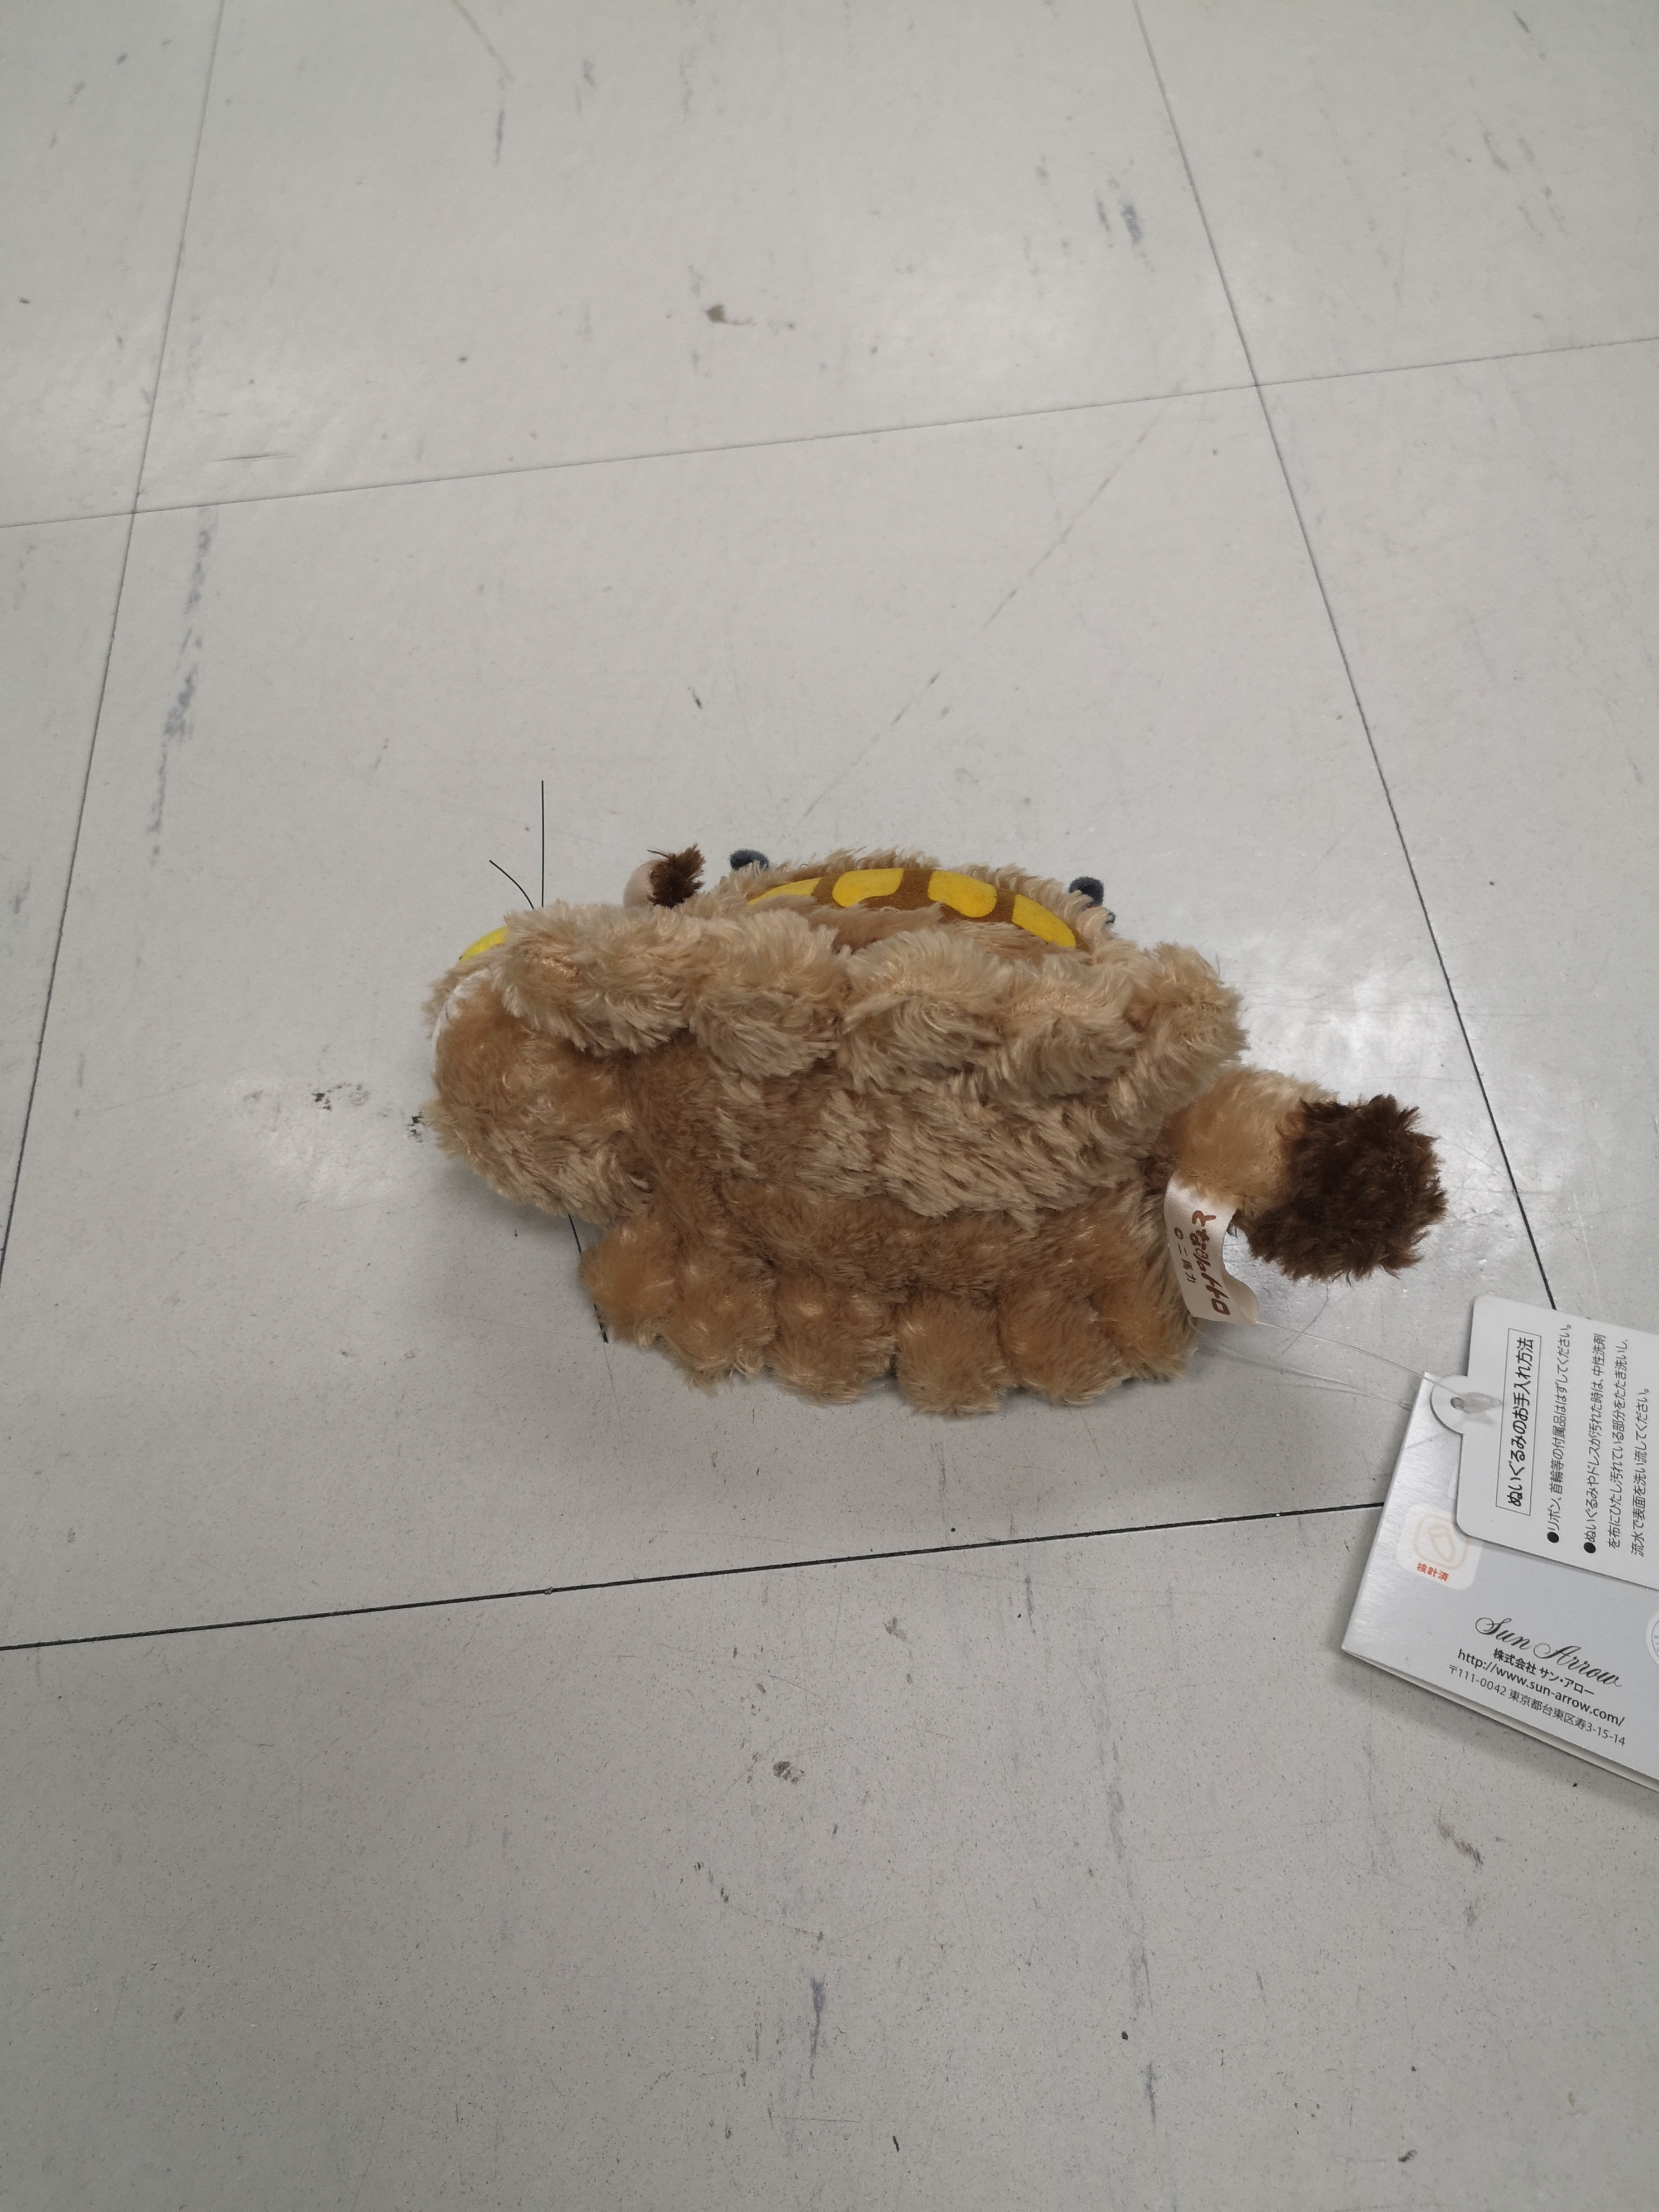nekobus: (413, 786, 1460, 1435)
